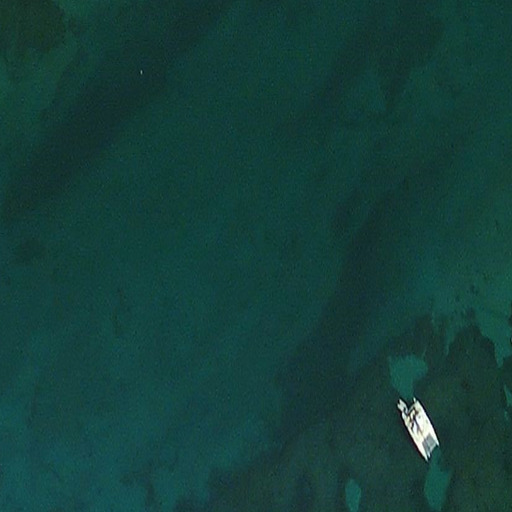ship: (394, 394, 442, 465)
